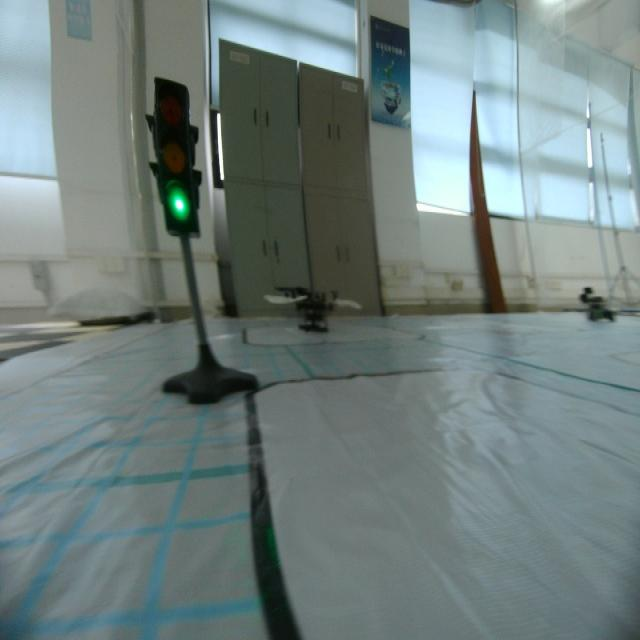red: (144, 72, 205, 247)
